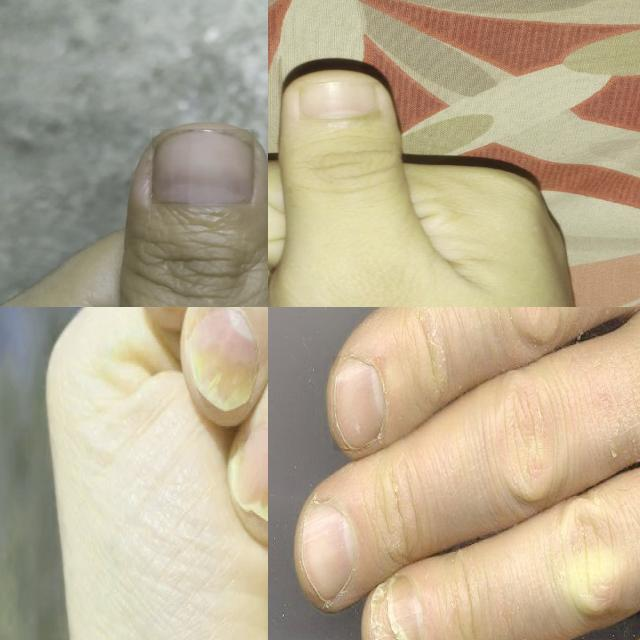diabetes: (188, 307, 257, 412), (368, 576, 422, 640), (232, 429, 268, 522)
sehat: (152, 130, 254, 204), (301, 498, 356, 602), (333, 357, 386, 451), (299, 83, 380, 120)
